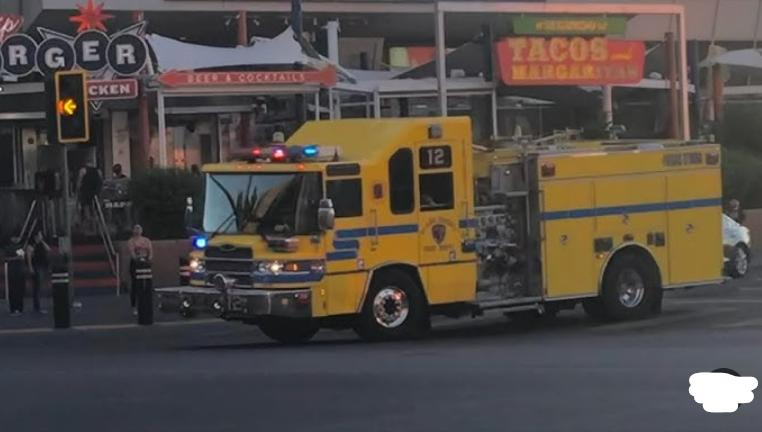firetruck_on: (152, 115, 725, 348)
